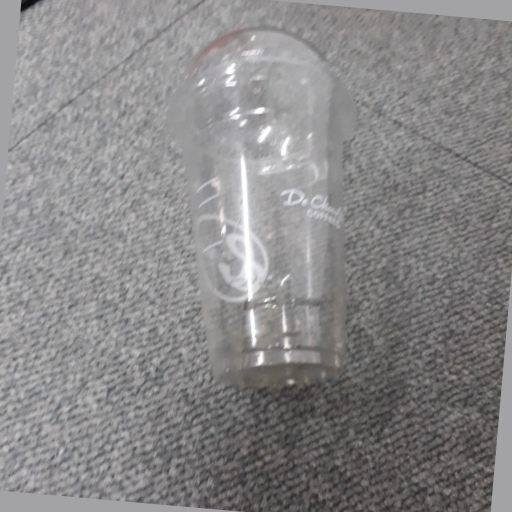Plastic_2: (166, 25, 357, 388)
